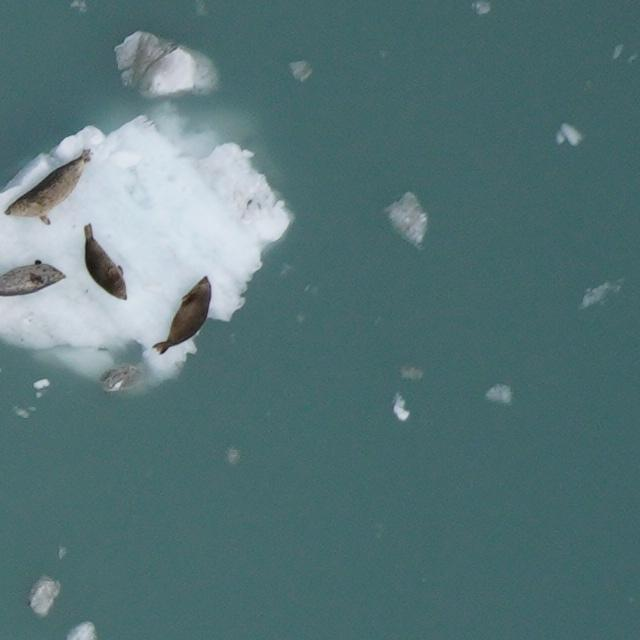seal: (2, 143, 98, 231), (147, 272, 219, 358), (79, 220, 133, 305), (0, 255, 71, 301)
